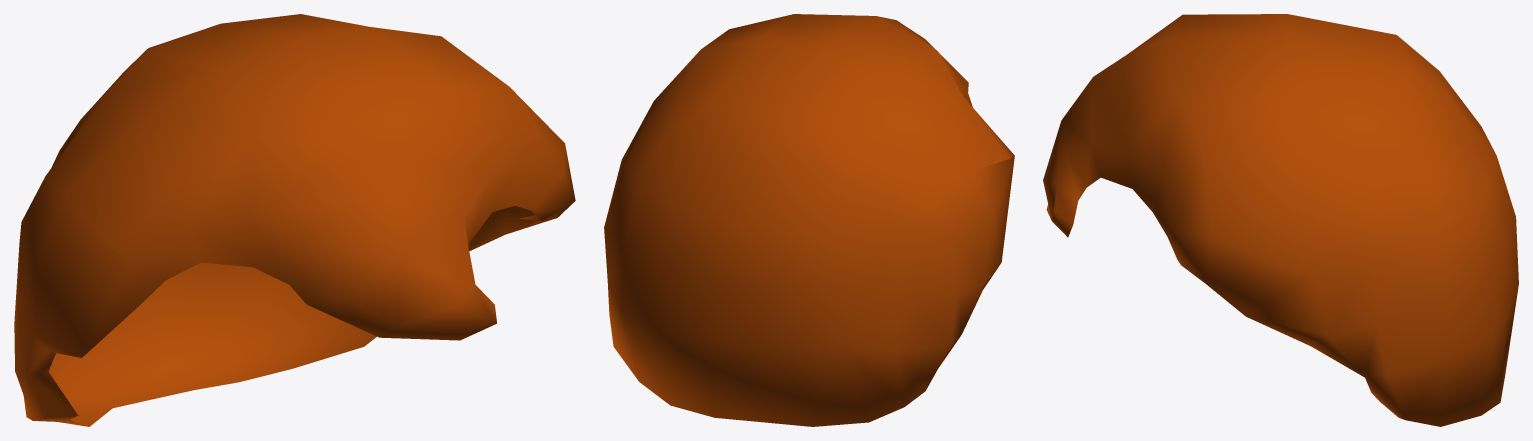
Rendered from Hair_02.fbx.
The picture shows the model from 3 angles, left to right: view 1: azimuth 30°, elevation 25°; view 2: azimuth 150°, elevation 25°; view 3: azimuth 270°, elevation 25°; orthographic projection. The views are drawn at different scales.
Visible parts, largest first — view 1: Hair_02; view 2: Hair_02; view 3: Hair_02.
Part boxes in pixels (x1,y1,x2,y2): Hair_02: (14,14,575,426); Hair_02: (604,14,1014,426); Hair_02: (1043,14,1518,426).
Bounding box in the file's own units: 74.23 × 60.9 × 75.28.
